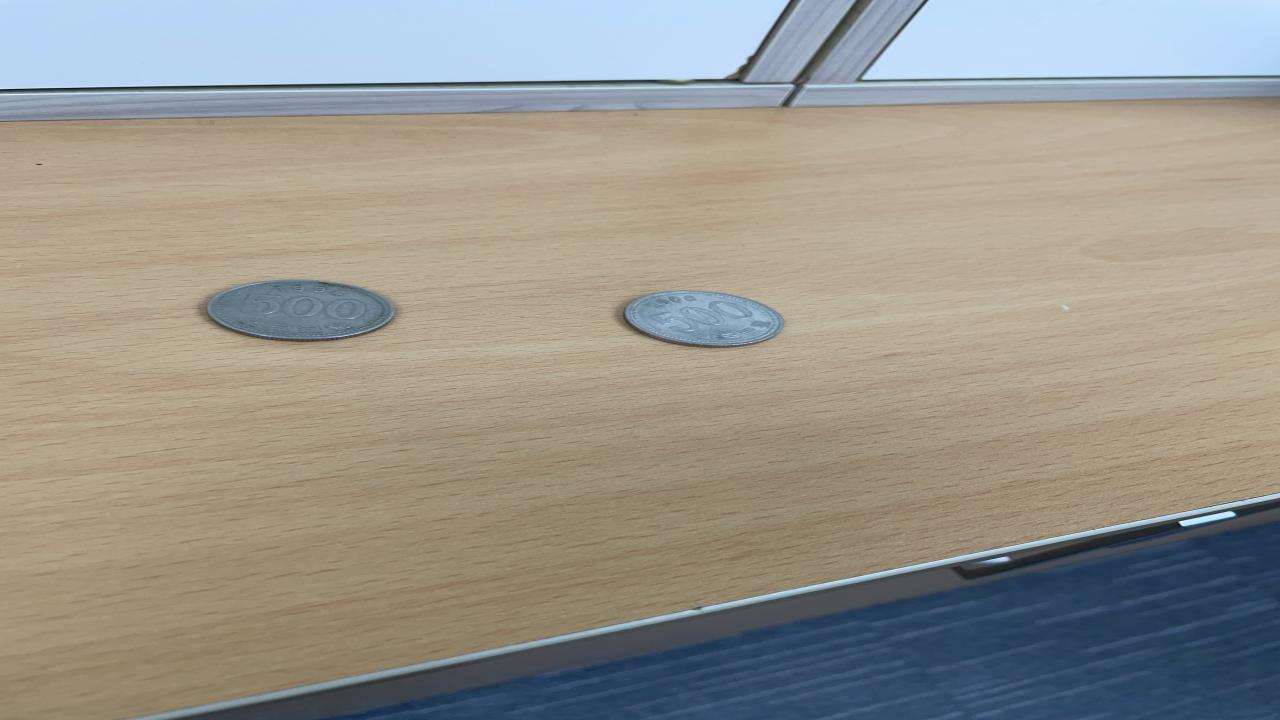coin: (204, 279, 396, 342), (620, 288, 790, 348)
